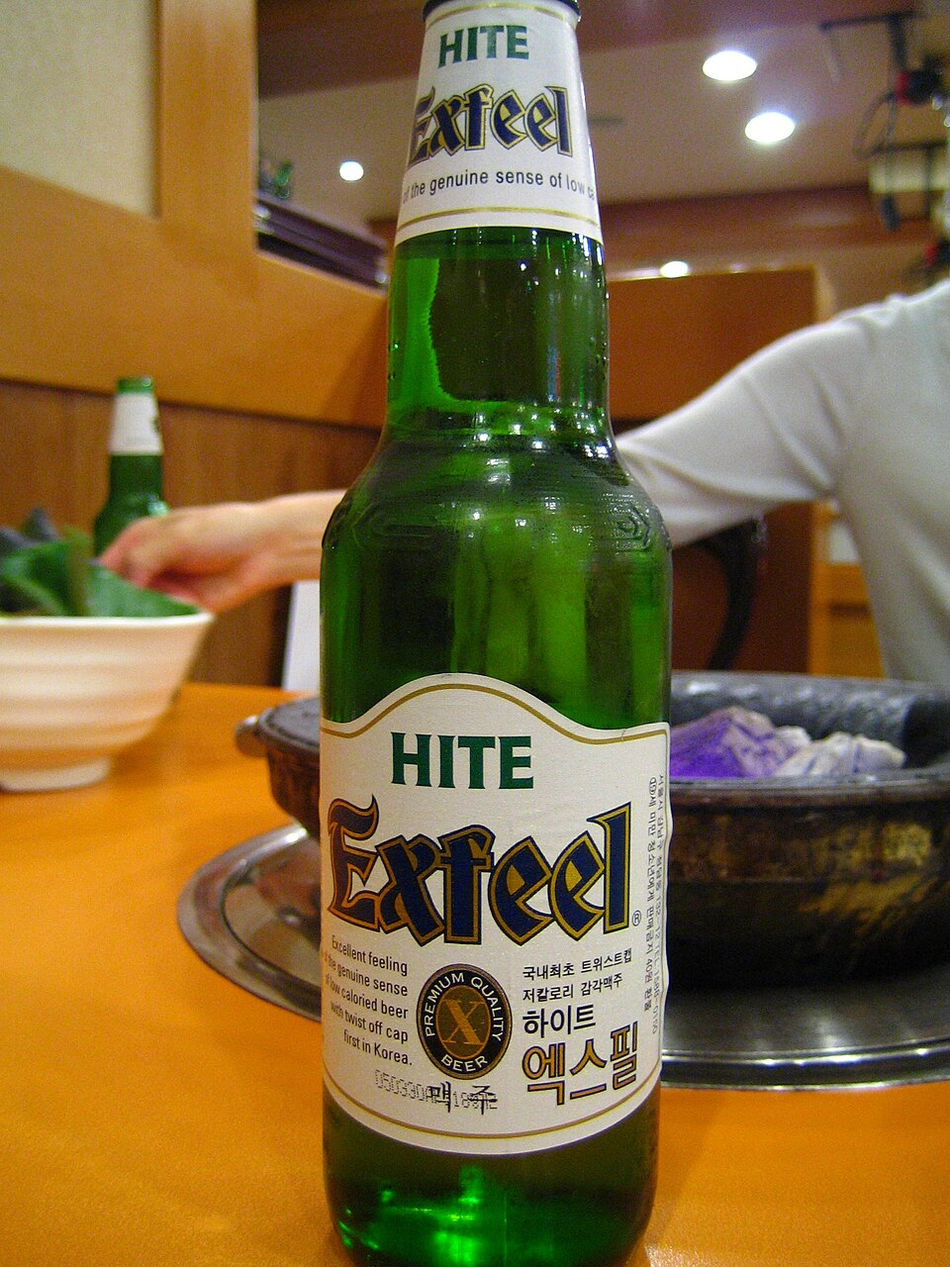beer-bottle: (310, 4, 679, 1257)
